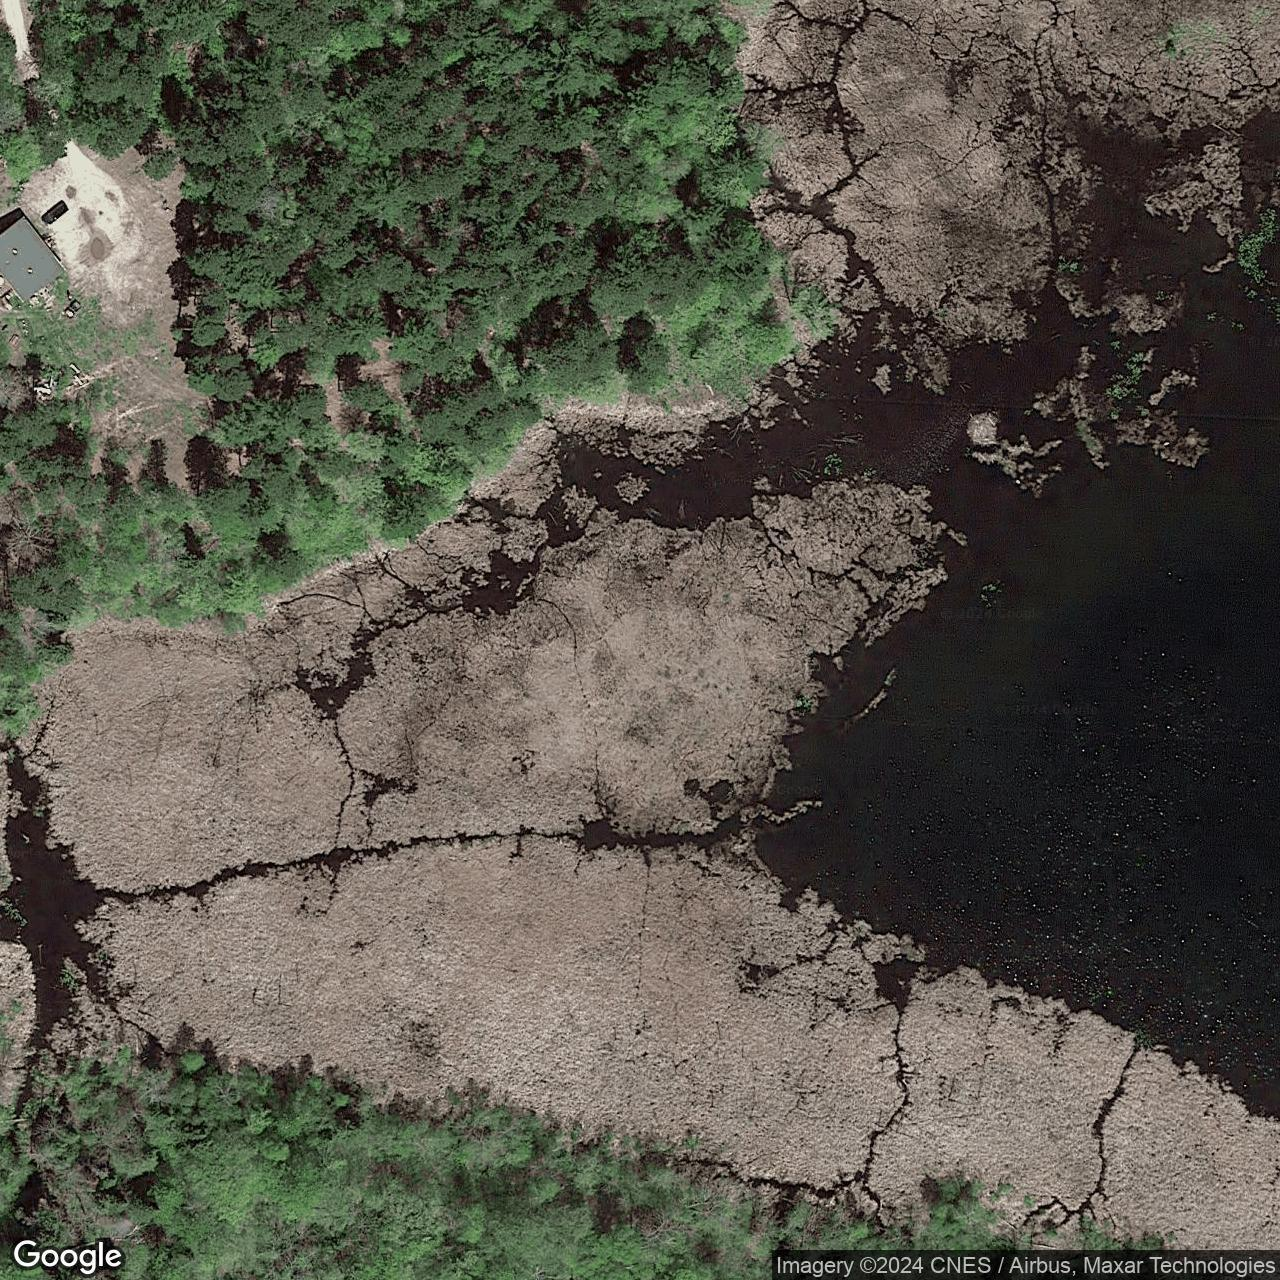House: (0, 213, 67, 304)
Propane: (68, 361, 83, 376)
